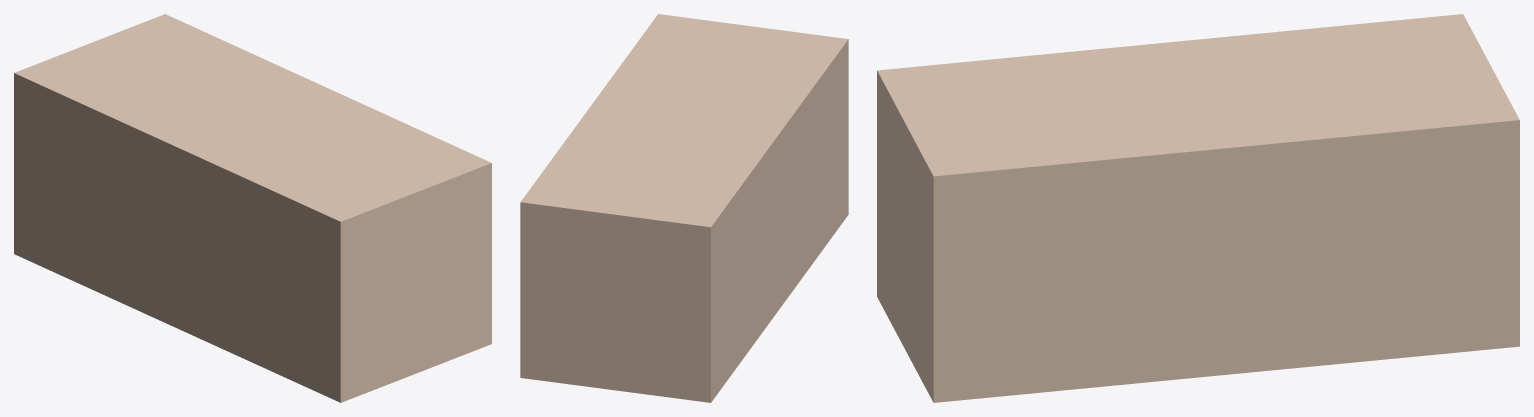
3 renders of one model, left to right at view 1: azimuth 30°, elevation 25°; view 2: azimuth 150°, elevation 25°; view 3: azimuth 270°, elevation 25°, orthographic. The views are drawn at different scales.
Visible parts, largest first — view 1: SM_4b864669cd041343f495; view 2: SM_4b864669cd041343f495; view 3: SM_4b864669cd041343f495.
Boxes of the visible parts, bbox=[...] form: SM_4b864669cd041343f495: bbox=[14, 14, 491, 402]; SM_4b864669cd041343f495: bbox=[520, 14, 848, 402]; SM_4b864669cd041343f495: bbox=[877, 14, 1519, 402].
Bounding box in the file's own units: 18.46 × 30.86 × 12.
